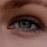eye: (19, 20, 32, 28)
